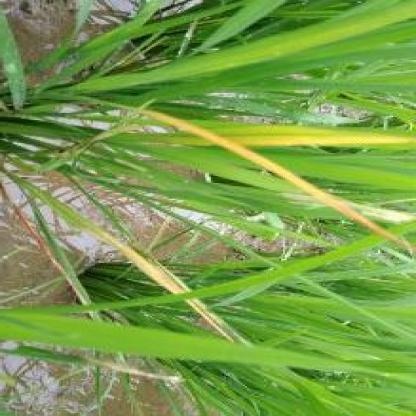Tungro: (137, 111, 415, 254), (191, 123, 414, 145)
